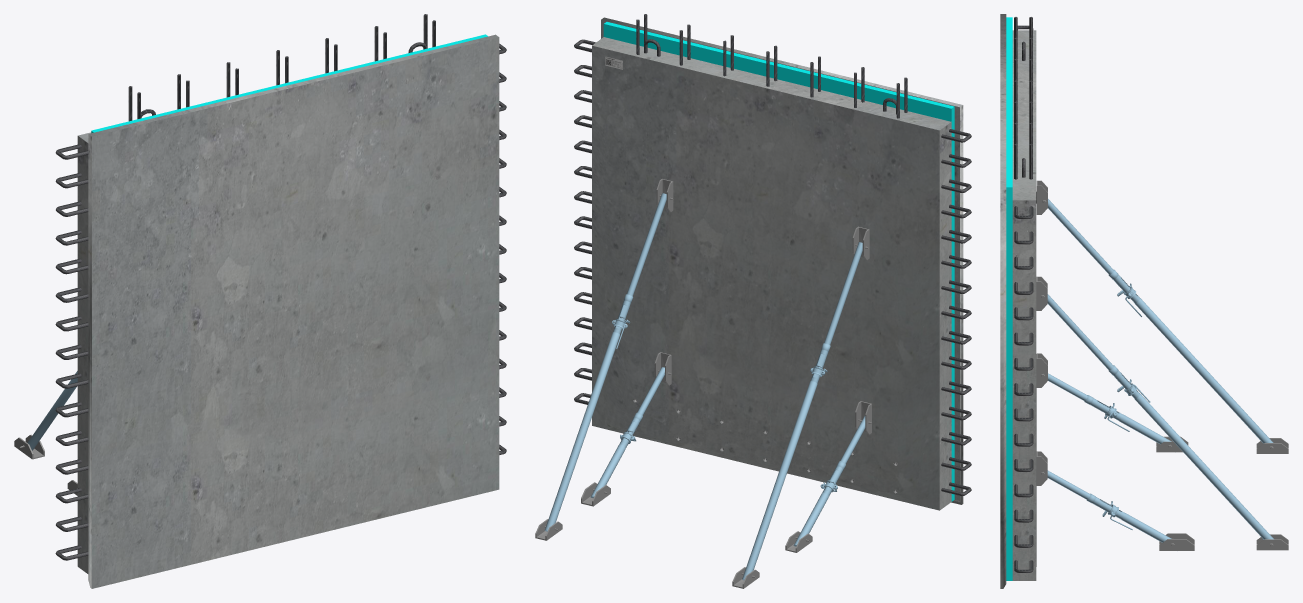
File: 预制剪力墙外墙构件.FBX
3 views of the same model, side by side, from view 1: azimuth 30°, elevation 25°; view 2: azimuth 150°, elevation 25°; view 3: azimuth 270°, elevation 25° (orthographic). The views are drawn at different scales.
Parts seen in each view (by area): view 1: 外叶板, 墙板副筋, 内叶板, 墙板主筋, 保温板, 斜支撑; view 2: 内叶板, 斜支撑, 保温板, 墙板副筋, 外叶板, 墙板主筋; view 3: 内叶板, 斜支撑, 外叶板, 保温板, 墙板副筋, 墙板主筋.
Boxes of the visible parts, x1=… form: 外叶板: x1=88, y1=34, x2=499, y2=588; 墙板副筋: x1=55, y1=43, x2=506, y2=560; 内叶板: x1=77, y1=132, x2=91, y2=573; 墙板主筋: x1=128, y1=14, x2=435, y2=121; 保温板: x1=91, y1=34, x2=487, y2=133; 斜支撑: x1=14, y1=371, x2=77, y2=495; 内叶板: x1=592, y1=37, x2=951, y2=510; 斜支撑: x1=535, y1=179, x2=872, y2=588; 保温板: x1=603, y1=22, x2=954, y2=501; 墙板副筋: x1=574, y1=39, x2=971, y2=495; 外叶板: x1=601, y1=17, x2=963, y2=504; 墙板主筋: x1=636, y1=14, x2=907, y2=118; 内叶板: x1=1012, y1=30, x2=1036, y2=580; 斜支撑: x1=1036, y1=180, x2=1288, y2=550; 外叶板: x1=1000, y1=14, x2=1006, y2=588; 保温板: x1=1006, y1=17, x2=1012, y2=580; 墙板副筋: x1=1014, y1=25, x2=1033, y2=572; 墙板主筋: x1=1014, y1=17, x2=1032, y2=179.
Bounding box in the file's own units: 301 × 309 × 192.
